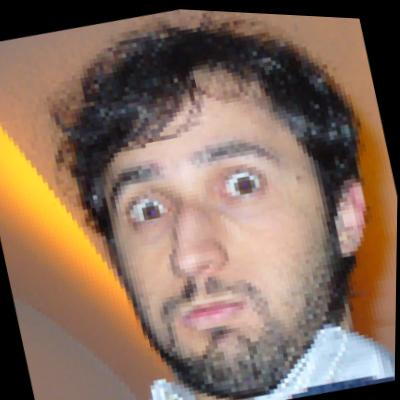surprise: (57, 35, 363, 400)
